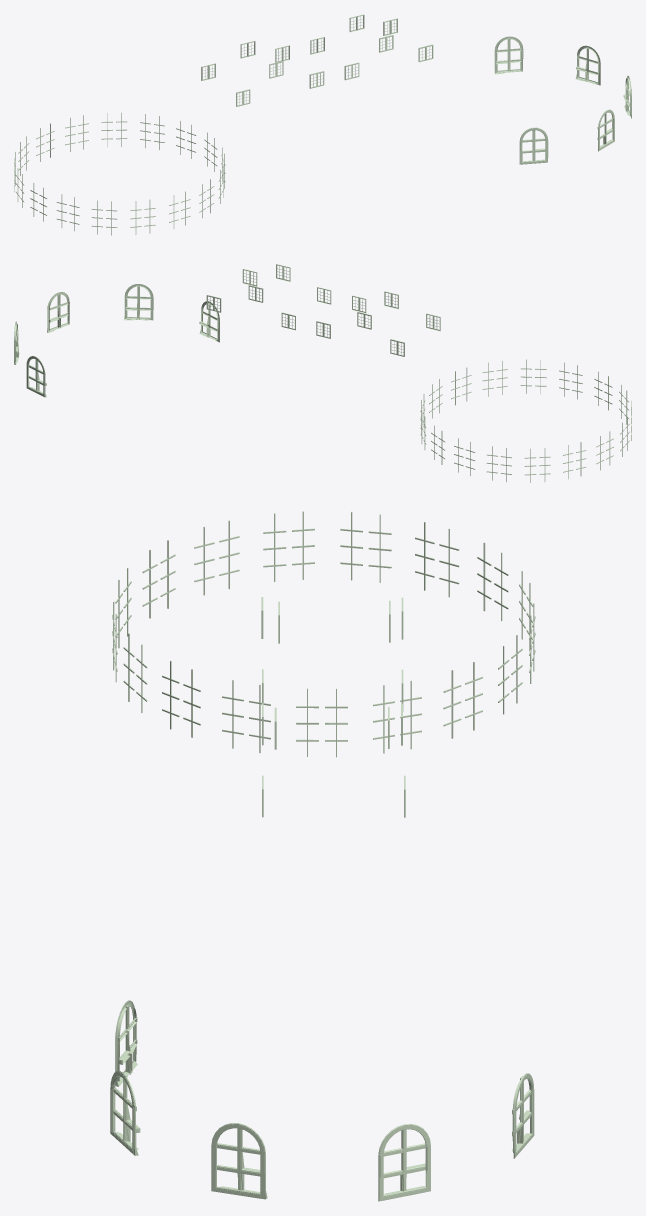
File: FairyTale177.gltf
The picture shows the model from 3 angles, top to bottom: view 1: azimuth 30°, elevation 25°; view 2: azimuth 150°, elevation 25°; view 3: azimuth 270°, elevation 25°; orthographic projection. The views are drawn at different scales.
Parts seen in each view (by area): view 1: TowerBridge_Mullions_Wood; view 2: TowerBridge_Mullions_Wood; view 3: TowerBridge_Mullions_Wood.
Boxes of the visible parts, x1=… form: TowerBridge_Mullions_Wood: x1=14, y1=14, x2=631, y2=235; TowerBridge_Mullions_Wood: x1=14, y1=264, x2=631, y2=482; TowerBridge_Mullions_Wood: x1=110, y1=511, x2=535, y2=1201.
Size of the model in its own units: 24.48 by 5.04 by 7.68.
